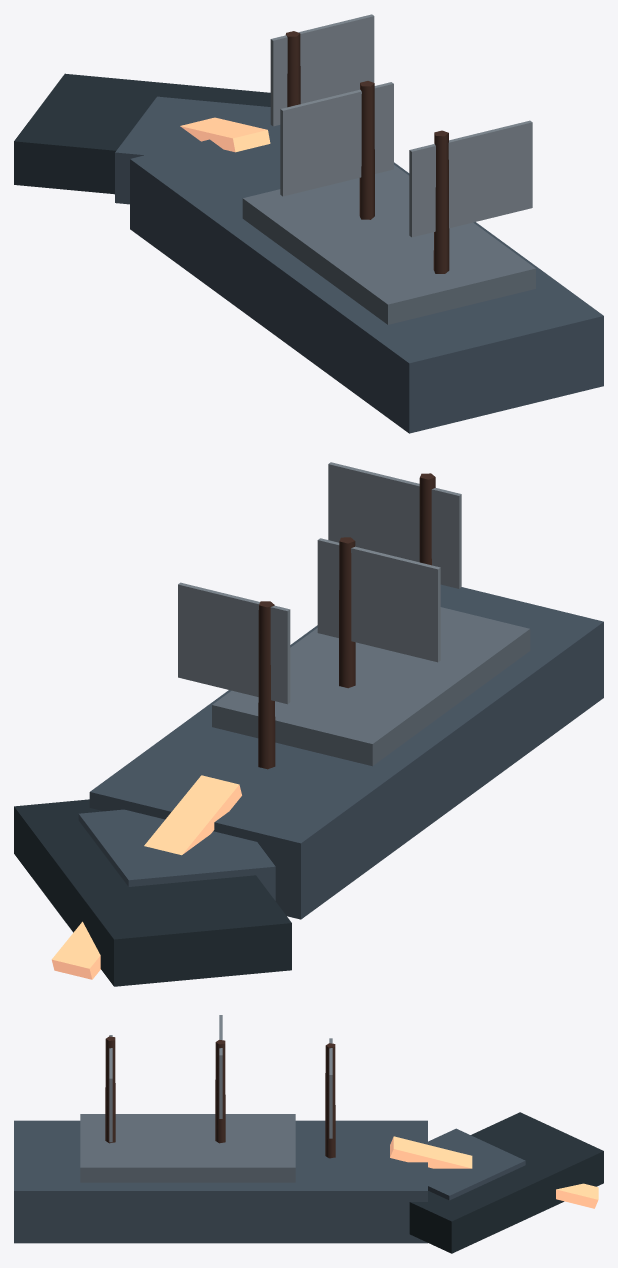
The model's file is ship_main_58_lod2.glb.
3 views of the same model, one above another, from view 1: azimuth 30°, elevation 25°; view 2: azimuth 150°, elevation 25°; view 3: azimuth 270°, elevation 25° (orthographic). The views are drawn at different scales.
Visible parts, largest first — view 1: Hull, Deck_0, WedgeRam, Sail_2, Sail_1, Sail_0, Bow, Mast_2, Mast_1, ProwIdentity, Mast_0; view 2: Hull, WedgeRam, Deck_0, Sail_1, Sail_2, Sail_0, Bow, ProwIdentity, Mast_0, Mast_1, Mast_2; view 3: Hull, Deck_0, WedgeRam, Bow, ProwIdentity, Mast_0, Mast_1, Mast_2, Sail_2, Sail_0, Sail_1.
Part boxes in pixels (bbox=[...]): Hull: bbox=[130, 124, 603, 433]; Deck_0: bbox=[242, 165, 535, 324]; WedgeRam: bbox=[14, 73, 270, 194]; Sail_2: bbox=[409, 120, 532, 237]; Sail_1: bbox=[280, 82, 393, 196]; Sail_0: bbox=[270, 14, 374, 126]; Bow: bbox=[115, 96, 270, 204]; Mast_2: bbox=[433, 130, 449, 273]; Mast_1: bbox=[359, 81, 374, 219]; ProwIdentity: bbox=[180, 117, 270, 152]; Mast_0: bbox=[285, 31, 300, 107]; Hull: bbox=[89, 584, 603, 919]; WedgeRam: bbox=[14, 799, 291, 986]; Deck_0: bbox=[212, 607, 530, 766]; Sail_1: bbox=[317, 538, 440, 662]; Sail_2: bbox=[328, 462, 461, 588]; Sail_0: bbox=[178, 582, 290, 704]; Bow: bbox=[78, 809, 275, 900]; ProwIdentity: bbox=[51, 775, 241, 979]; Mast_0: bbox=[258, 601, 275, 769]; Mast_1: bbox=[339, 537, 355, 688]; Mast_2: bbox=[419, 473, 435, 565]; Hull: bbox=[14, 1120, 427, 1243]; Deck_0: bbox=[80, 1114, 295, 1182]; WedgeRam: bbox=[409, 1112, 603, 1253]; Bow: bbox=[428, 1128, 525, 1200]; ProwIdentity: bbox=[390, 1136, 598, 1208]; Mast_0: bbox=[325, 1043, 335, 1158]; Mast_1: bbox=[215, 1039, 225, 1143]; Mast_2: bbox=[105, 1036, 115, 1143]; Sail_2: bbox=[109, 1035, 112, 1142]; Sail_0: bbox=[329, 1038, 332, 1138]; Sail_1: bbox=[219, 1015, 222, 1118].
Size of the model in its own units: 4.16 by 3 by 9.49.
